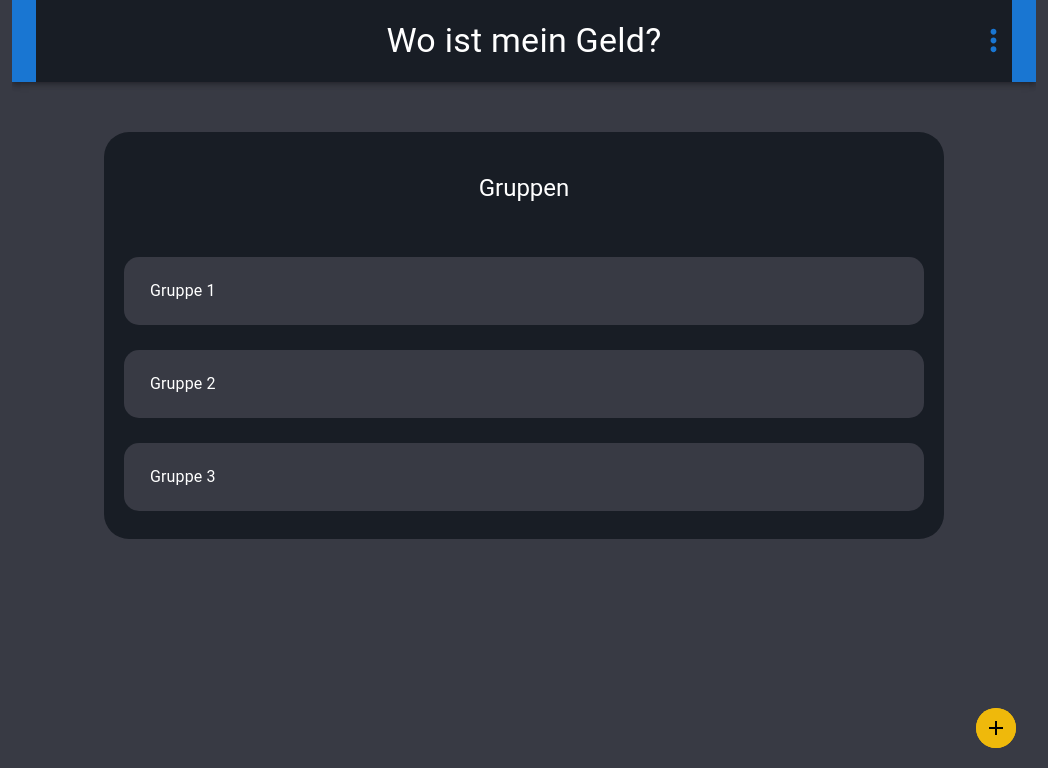
Test: RemoveFromGroup › if GroupScreen has menu to leave group
Click the list item "Gruppe 1" at (524,291), box [124, 257, 924, 325]
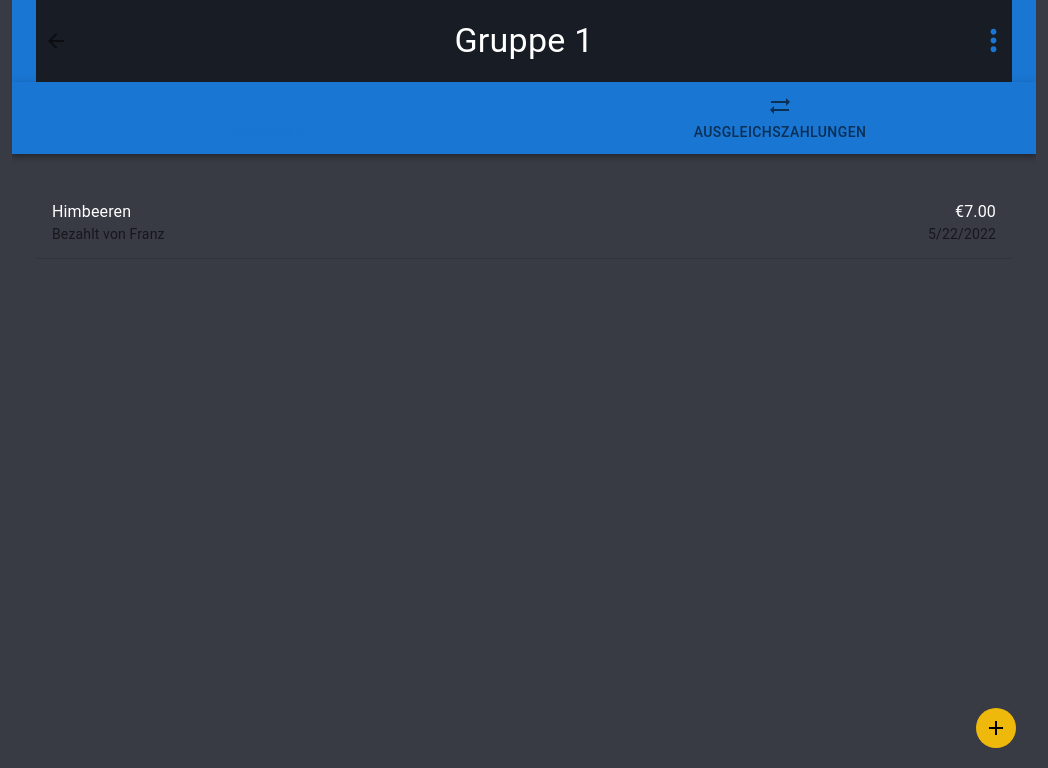
Expected: the list item shows "Himbeeren", [52, 202, 131, 221]
Click the button with test id "openThreePointMenu" at (994,41), box [971, 18, 1016, 64]
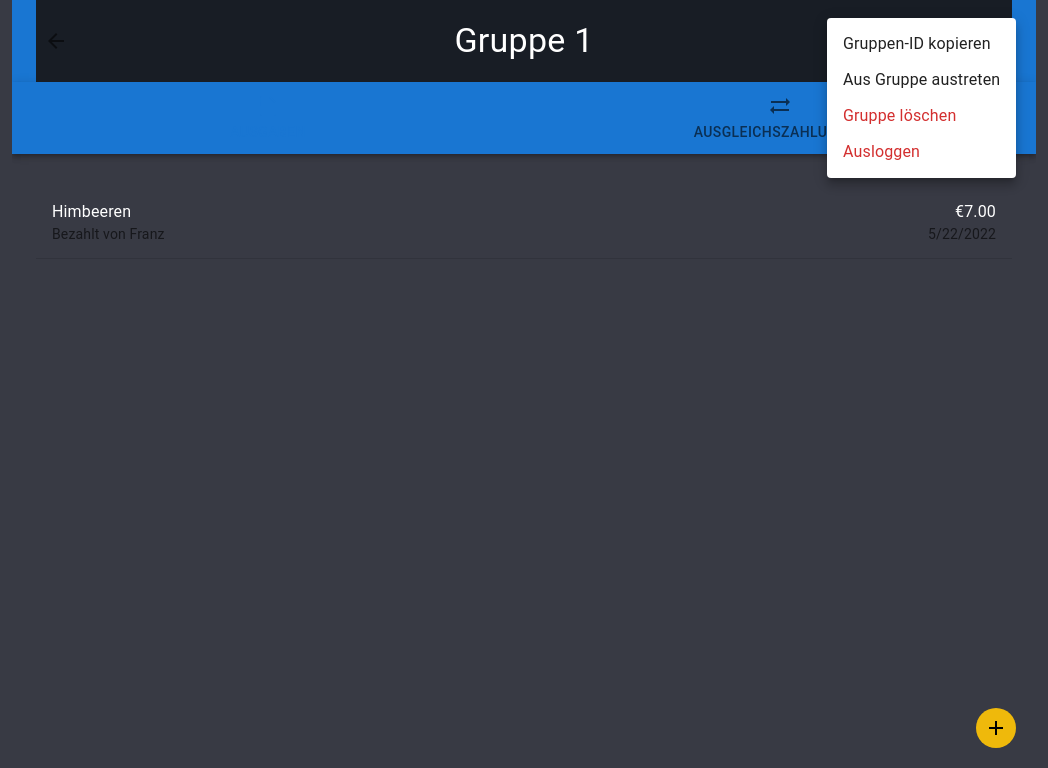
Expected: the menu is shown, [843, 34, 1000, 161]
Expected: the menu item "Gruppen-ID kopieren" is shown, [843, 34, 991, 53]
Expected: the menu item "Aus Gruppe austreten" is shown, [843, 70, 1000, 89]
